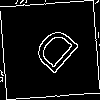D: (24, 24, 81, 83)
